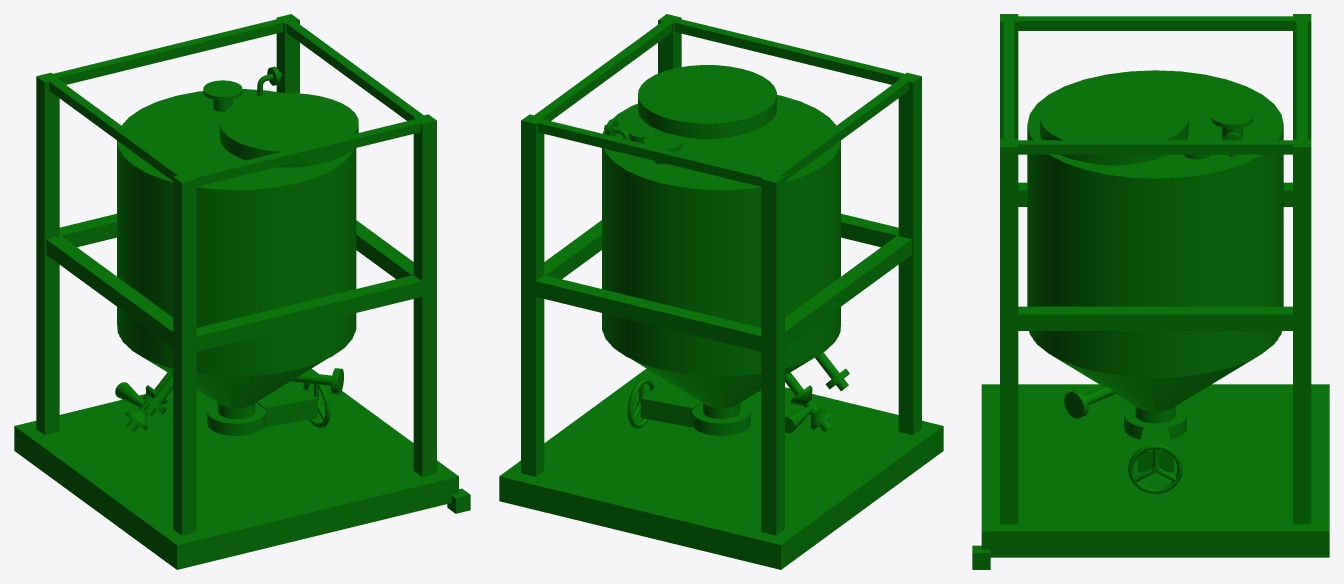
The model's file is Image-1710907665241-2280314766816_20-TA50B.fbx.
3 views of the same model, side by side, from view 1: azimuth 30°, elevation 25°; view 2: azimuth 150°, elevation 25°; view 3: azimuth 270°, elevation 25° (orthographic). The views are drawn at different scales.
Parts seen in each view (by area): view 1: BOX 13 of SUBEQUIPMENT /20-TA50B-PRIM, CYLINDER 1 of SUBEQUIPMENT /20-TA50B-PRIM, BOX 2 of SUBEQUIPMENT /20-TA50B-PRIM, BOX 1 of SUBEQUIPMENT /20-TA50B-PRIM, BOX 3 of SUBEQUIPMENT /20-TA50B-PRIM, CYLINDER 15 of SUBEQUIPMENT /20-TA50B-NOZZ, BOX 7 of SUBEQUIPMENT /20-TA50B-PRIM, BOX 11 of SUBEQUIPMENT /20-TA50B-PRIM, BOX 8 of SUBEQUIPMENT /20-TA50B-PRIM, BOX 6 of SUBEQUIPMENT /20-TA50B-PRIM, CONE 1 of SUBEQUIPMENT /20-TA50B-PRIM, BOX 10 of SUBEQUIPMENT /20-TA50B-PRIM (+8 smaller); view 2: BOX 13 of SUBEQUIPMENT /20-TA50B-PRIM, CYLINDER 1 of SUBEQUIPMENT /20-TA50B-PRIM, BOX 3 of SUBEQUIPMENT /20-TA50B-PRIM, BOX 4 of SUBEQUIPMENT /20-TA50B-PRIM, BOX 2 of SUBEQUIPMENT /20-TA50B-PRIM, CYLINDER 15 of SUBEQUIPMENT /20-TA50B-NOZZ, BOX 5 of SUBEQUIPMENT /20-TA50B-PRIM, BOX 11 of SUBEQUIPMENT /20-TA50B-PRIM, BOX 6 of SUBEQUIPMENT /20-TA50B-PRIM, BOX 8 of SUBEQUIPMENT /20-TA50B-PRIM, CONE 1 of SUBEQUIPMENT /20-TA50B-PRIM, BOX 10 of SUBEQUIPMENT /20-TA50B-PRIM (+8 smaller); view 3: CYLINDER 1 of SUBEQUIPMENT /20-TA50B-PRIM, BOX 13 of SUBEQUIPMENT /20-TA50B-PRIM, BOX 4 of SUBEQUIPMENT /20-TA50B-PRIM, BOX 1 of SUBEQUIPMENT /20-TA50B-PRIM, CYLINDER 15 of SUBEQUIPMENT /20-TA50B-NOZZ, BOX 9 of SUBEQUIPMENT /20-TA50B-PRIM, BOX 10 of SUBEQUIPMENT /20-TA50B-PRIM, BOX 12 of SUBEQUIPMENT /20-TA50B-PRIM, CONE 1 of SUBEQUIPMENT /20-TA50B-PRIM, BOX 6 of SUBEQUIPMENT /20-TA50B-PRIM, BOX 8 of SUBEQUIPMENT /20-TA50B-PRIM, BOX 2 of SUBEQUIPMENT /20-TA50B-PRIM (+7 smaller).
Part boxes in pixels (bbox=[...]): BOX 13 of SUBEQUIPMENT /20-TA50B-PRIM: bbox=[14, 368, 458, 569]; CYLINDER 1 of SUBEQUIPMENT /20-TA50B-PRIM: bbox=[117, 89, 356, 376]; BOX 2 of SUBEQUIPMENT /20-TA50B-PRIM: bbox=[173, 173, 196, 535]; BOX 1 of SUBEQUIPMENT /20-TA50B-PRIM: bbox=[413, 114, 436, 476]; BOX 3 of SUBEQUIPMENT /20-TA50B-PRIM: bbox=[36, 72, 59, 434]; CYLINDER 15 of SUBEQUIPMENT /20-TA50B-NOZZ: bbox=[219, 93, 358, 156]; BOX 7 of SUBEQUIPMENT /20-TA50B-PRIM: bbox=[195, 275, 422, 351]; BOX 11 of SUBEQUIPMENT /20-TA50B-PRIM: bbox=[46, 235, 173, 347]; BOX 8 of SUBEQUIPMENT /20-TA50B-PRIM: bbox=[190, 119, 420, 186]; BOX 6 of SUBEQUIPMENT /20-TA50B-PRIM: bbox=[51, 19, 283, 84]; CONE 1 of SUBEQUIPMENT /20-TA50B-PRIM: bbox=[119, 331, 355, 408]; BOX 10 of SUBEQUIPMENT /20-TA50B-PRIM: bbox=[286, 20, 425, 120]; BOX 13 of SUBEQUIPMENT /20-TA50B-PRIM: bbox=[499, 368, 943, 569]; CYLINDER 1 of SUBEQUIPMENT /20-TA50B-PRIM: bbox=[602, 95, 840, 376]; BOX 3 of SUBEQUIPMENT /20-TA50B-PRIM: bbox=[761, 173, 784, 535]; BOX 4 of SUBEQUIPMENT /20-TA50B-PRIM: bbox=[521, 114, 544, 476]; BOX 2 of SUBEQUIPMENT /20-TA50B-PRIM: bbox=[898, 72, 921, 435]; CYLINDER 15 of SUBEQUIPMENT /20-TA50B-NOZZ: bbox=[638, 65, 776, 130]; BOX 5 of SUBEQUIPMENT /20-TA50B-PRIM: bbox=[534, 275, 762, 351]; BOX 11 of SUBEQUIPMENT /20-TA50B-PRIM: bbox=[785, 235, 911, 347]; BOX 6 of SUBEQUIPMENT /20-TA50B-PRIM: bbox=[537, 119, 767, 186]; BOX 8 of SUBEQUIPMENT /20-TA50B-PRIM: bbox=[674, 19, 905, 84]; CONE 1 of SUBEQUIPMENT /20-TA50B-PRIM: bbox=[602, 331, 838, 408]; BOX 10 of SUBEQUIPMENT /20-TA50B-PRIM: bbox=[534, 20, 671, 120]; CYLINDER 1 of SUBEQUIPMENT /20-TA50B-PRIM: bbox=[1027, 70, 1283, 377]; BOX 13 of SUBEQUIPMENT /20-TA50B-PRIM: bbox=[981, 384, 1329, 557]; BOX 4 of SUBEQUIPMENT /20-TA50B-PRIM: bbox=[1293, 139, 1311, 524]; BOX 1 of SUBEQUIPMENT /20-TA50B-PRIM: bbox=[1000, 139, 1018, 524]; CYLINDER 15 of SUBEQUIPMENT /20-TA50B-NOZZ: bbox=[1040, 86, 1188, 156]; BOX 9 of SUBEQUIPMENT /20-TA50B-PRIM: bbox=[1018, 306, 1292, 330]; BOX 10 of SUBEQUIPMENT /20-TA50B-PRIM: bbox=[1014, 140, 1296, 154]; BOX 12 of SUBEQUIPMENT /20-TA50B-PRIM: bbox=[1016, 16, 1295, 30]; CONE 1 of SUBEQUIPMENT /20-TA50B-PRIM: bbox=[1033, 339, 1277, 411]; BOX 6 of SUBEQUIPMENT /20-TA50B-PRIM: bbox=[1296, 21, 1307, 140]; BOX 8 of SUBEQUIPMENT /20-TA50B-PRIM: bbox=[1003, 21, 1014, 140]; BOX 2 of SUBEQUIPMENT /20-TA50B-PRIM: bbox=[1000, 14, 1018, 139].
Bounding box in the file's own units: 1.95 × 1.95 × 2.48.
